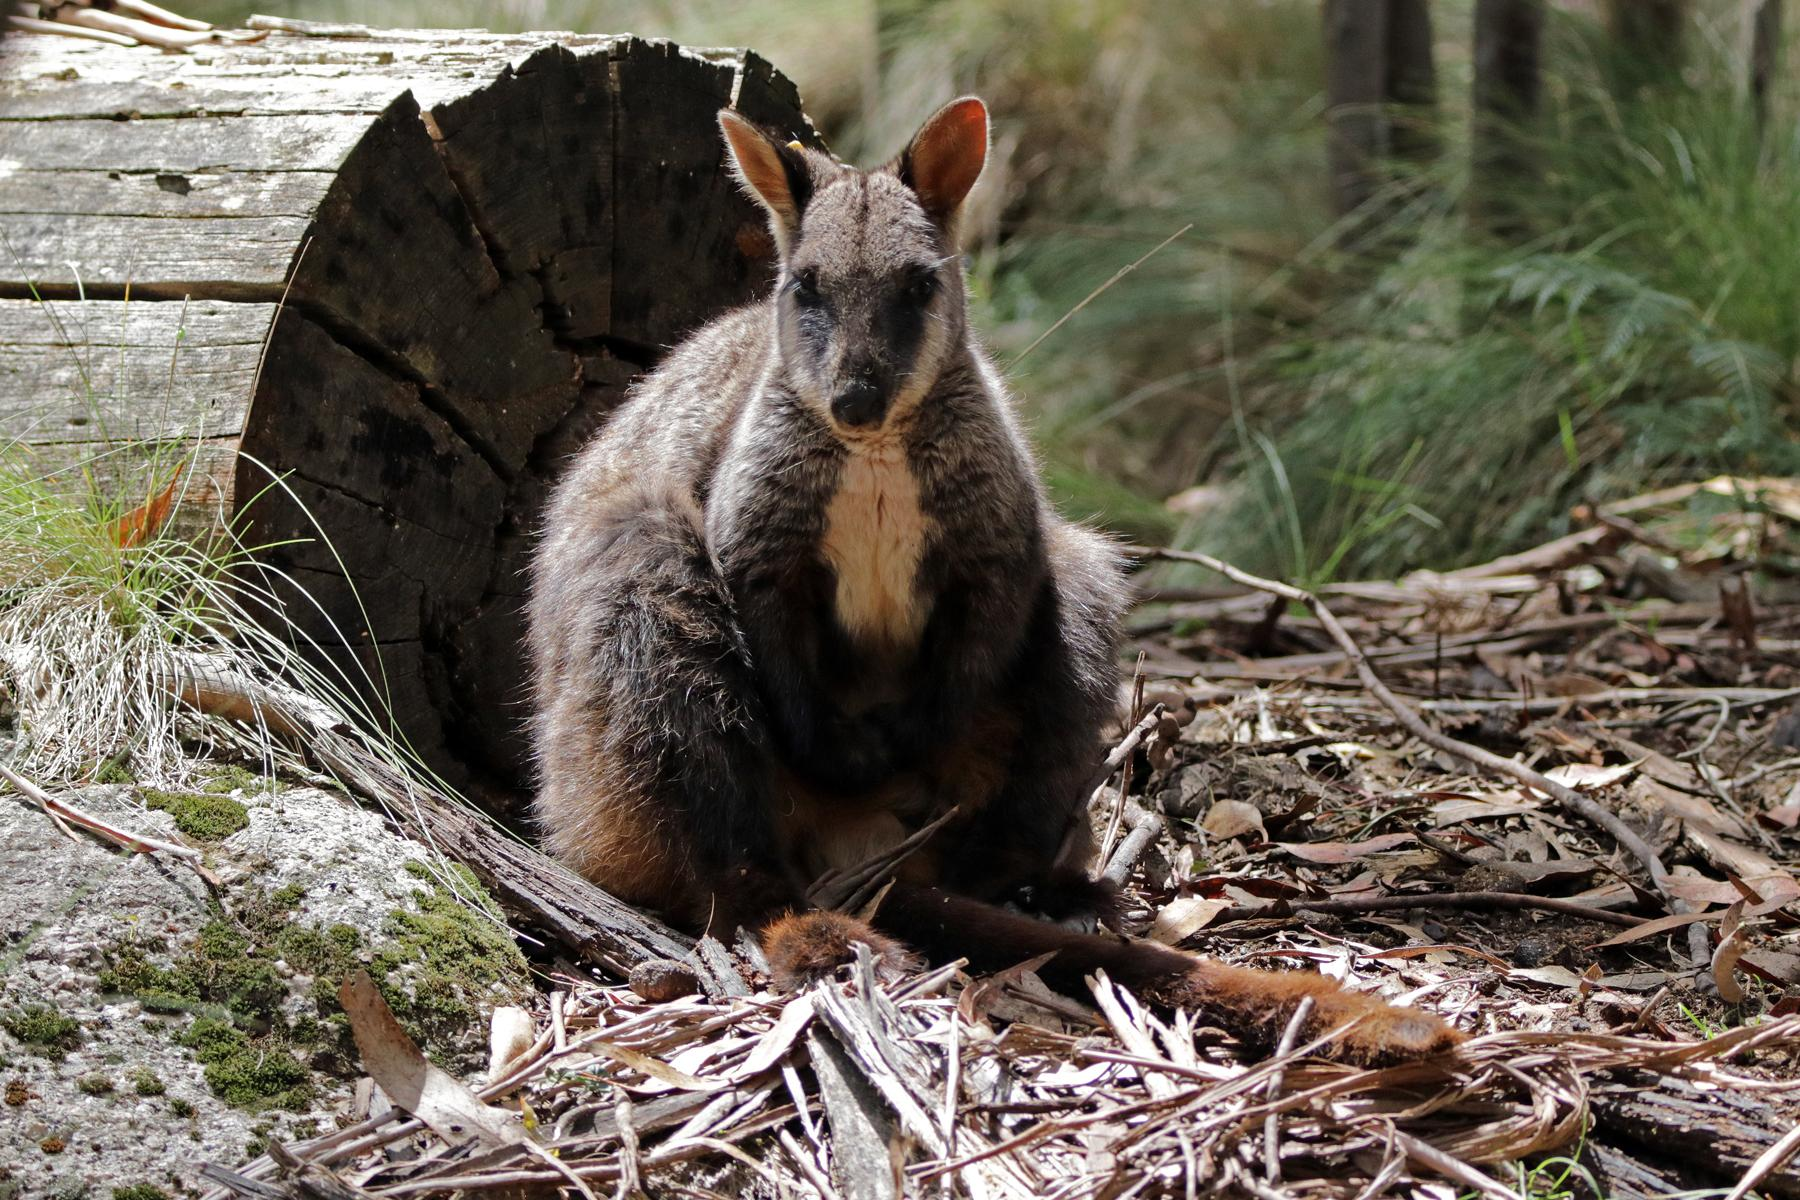Brush-tailed rock-wallaby: (504, 64, 1477, 1098)
